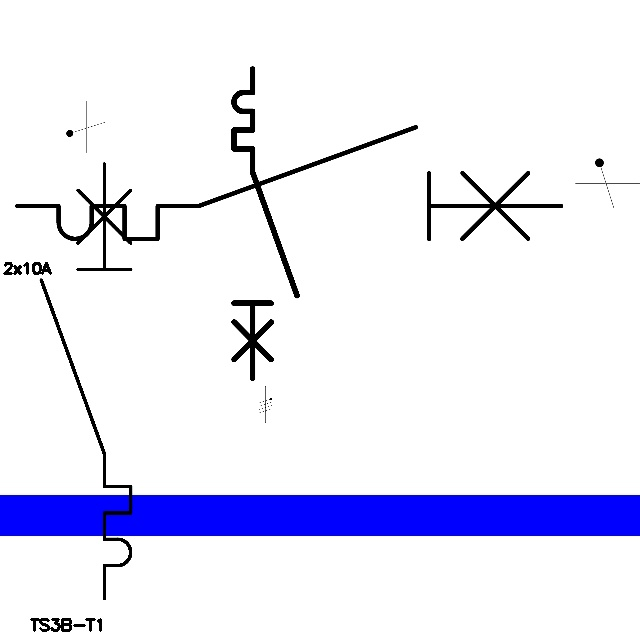interruptor_termomagnetico: (3, 113, 575, 253), (30, 152, 142, 610), (226, 61, 305, 386)
